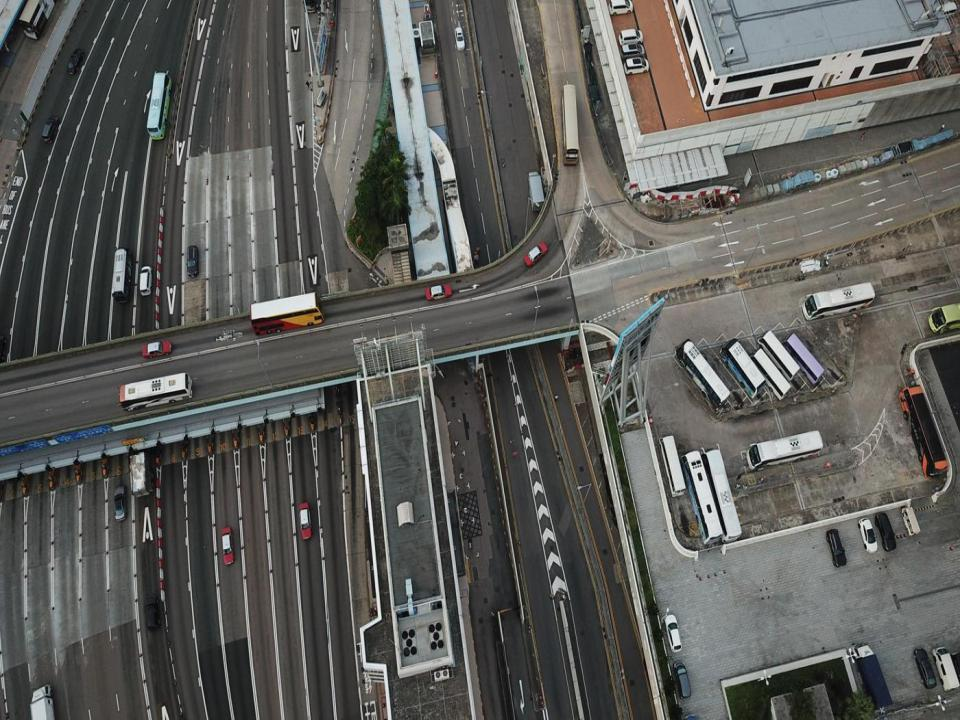bus: (898, 383, 948, 480), (700, 443, 742, 544), (676, 338, 730, 413), (679, 450, 722, 544), (250, 292, 324, 336), (746, 430, 823, 470), (117, 372, 193, 411), (802, 281, 876, 321), (719, 339, 766, 398), (756, 329, 800, 381), (780, 334, 825, 384), (750, 348, 790, 400), (659, 434, 686, 497), (147, 70, 171, 139), (19, 0, 56, 40), (561, 85, 579, 165), (111, 246, 132, 303), (928, 302, 960, 332)
car: (914, 647, 938, 689), (875, 512, 897, 551), (664, 613, 683, 652), (858, 517, 878, 554), (523, 241, 547, 267), (221, 525, 235, 565), (141, 341, 172, 359), (298, 501, 311, 538), (114, 485, 127, 521), (425, 284, 452, 301), (67, 48, 83, 74), (454, 26, 466, 50)
truck: (850, 641, 894, 709), (130, 435, 154, 496), (29, 683, 53, 719), (527, 171, 545, 213)
van: (932, 646, 960, 692), (826, 528, 846, 567), (673, 661, 692, 697), (144, 595, 160, 629), (40, 116, 58, 142), (624, 57, 650, 75), (185, 245, 199, 278), (619, 28, 643, 47), (618, 43, 644, 60), (607, 0, 633, 16), (139, 266, 153, 295)
